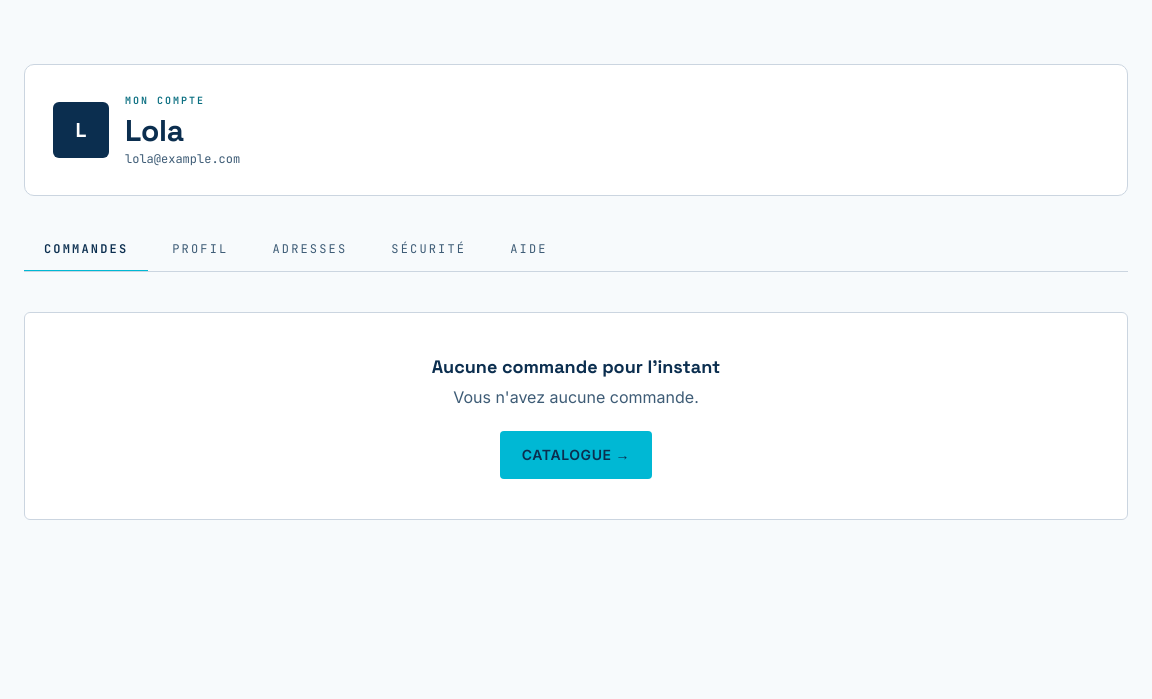
Test: un compte SANS mot de passe › et l'écran dit qu'il DÉFINIT un mot de passe, pas qu'il le change
Step 1. Click the button with test id "account-tab-security" → (429, 250), box [371,228,486,272]
(page scrolled)
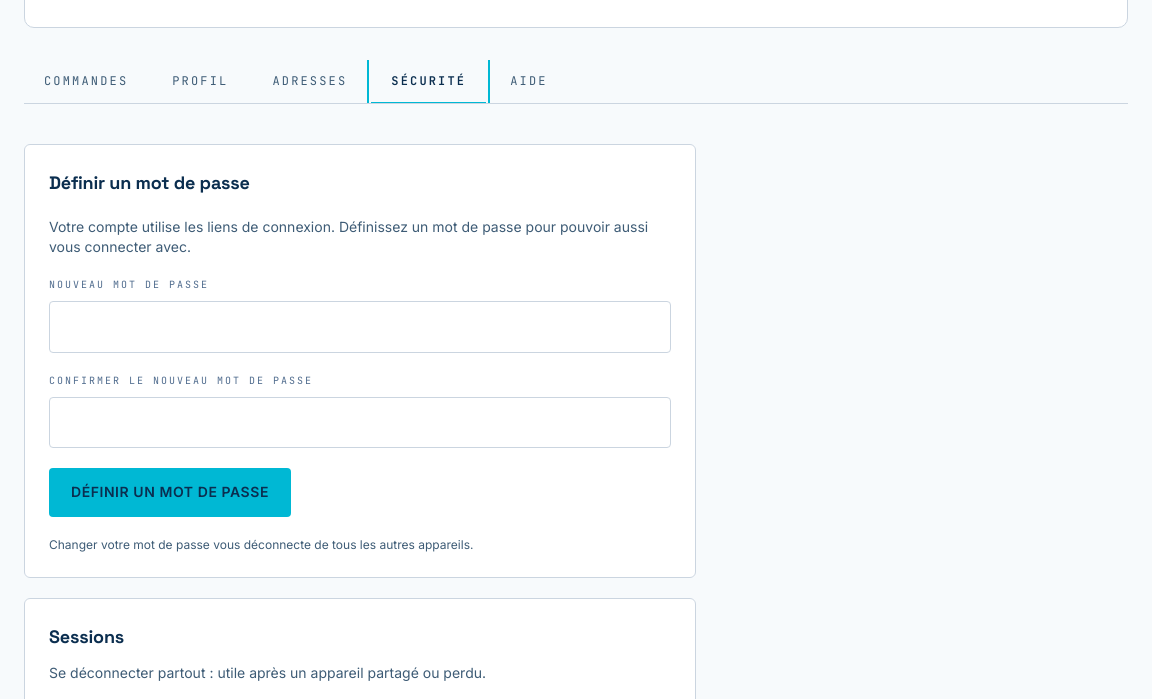
Expected: the form with test id "password-form" shows "Définir un mot de passe", [49,171,250,194]
Expected: the form with test id "password-form" shows "liens de connexion", [49,218,648,255]
